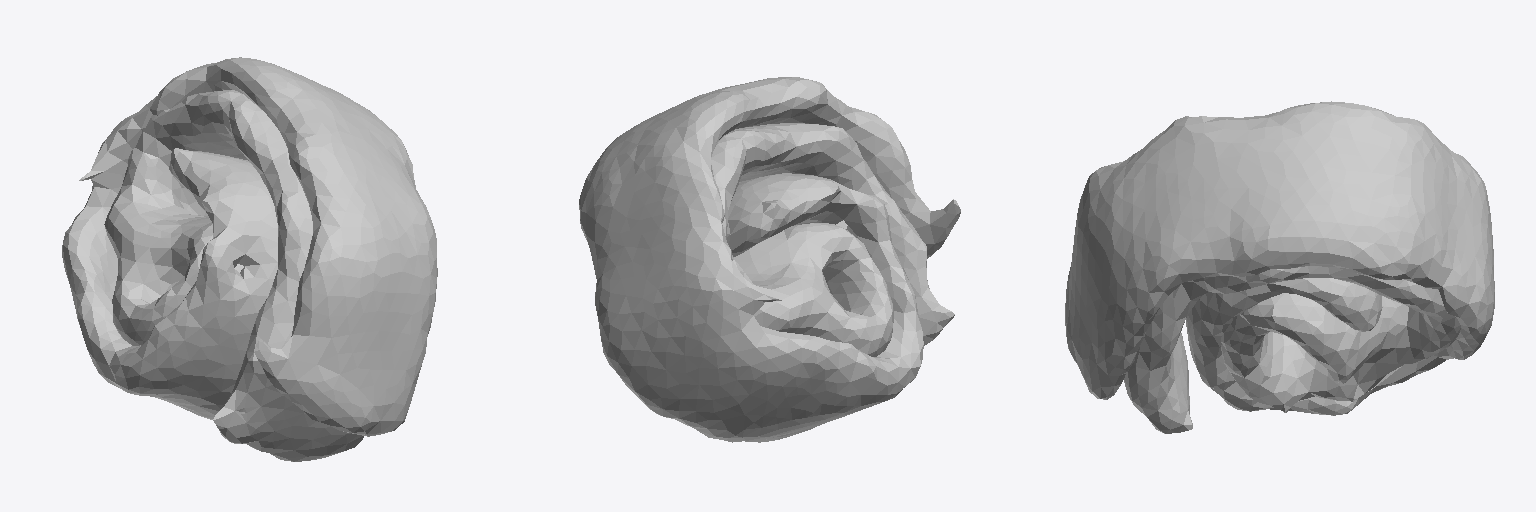
The model's file is cake1_2.obj.
The picture shows the model from 3 angles: view 1: azimuth 30°, elevation 25°; view 2: azimuth 150°, elevation 25°; view 3: azimuth 270°, elevation 25°; orthographic projection.
Bounding box in the file's own units: 0.2417 × 0.2583 × 0.3057.